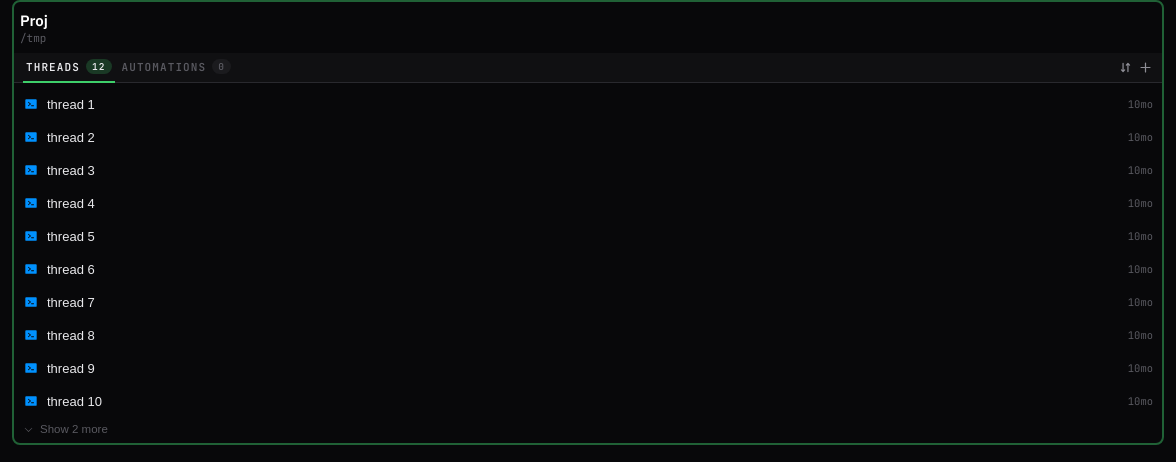
Test: clicking Show more reveals the full list and removes the expander
Step 1. Click the button "Show 2 more" → [56, 429], box [14, 419, 1162, 439]
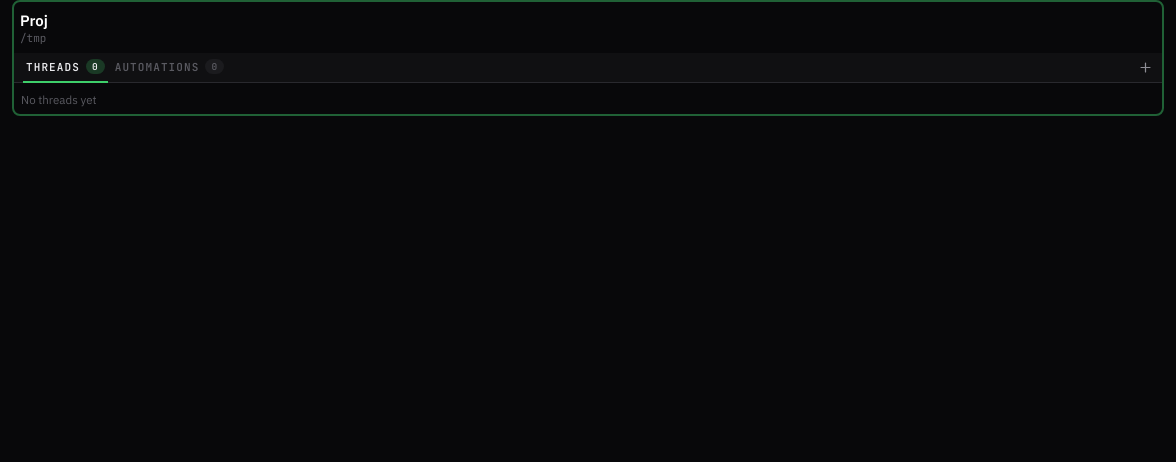
Check: the button "Show 2 more" is gone
